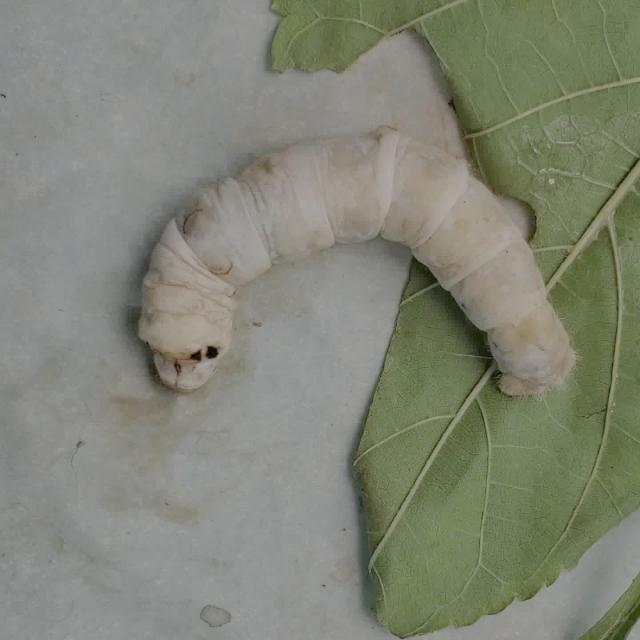Grasserie: (137, 107, 582, 432)
